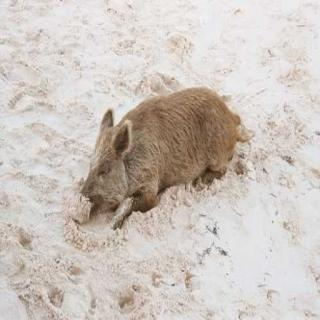Pig: (71, 88, 255, 224)
